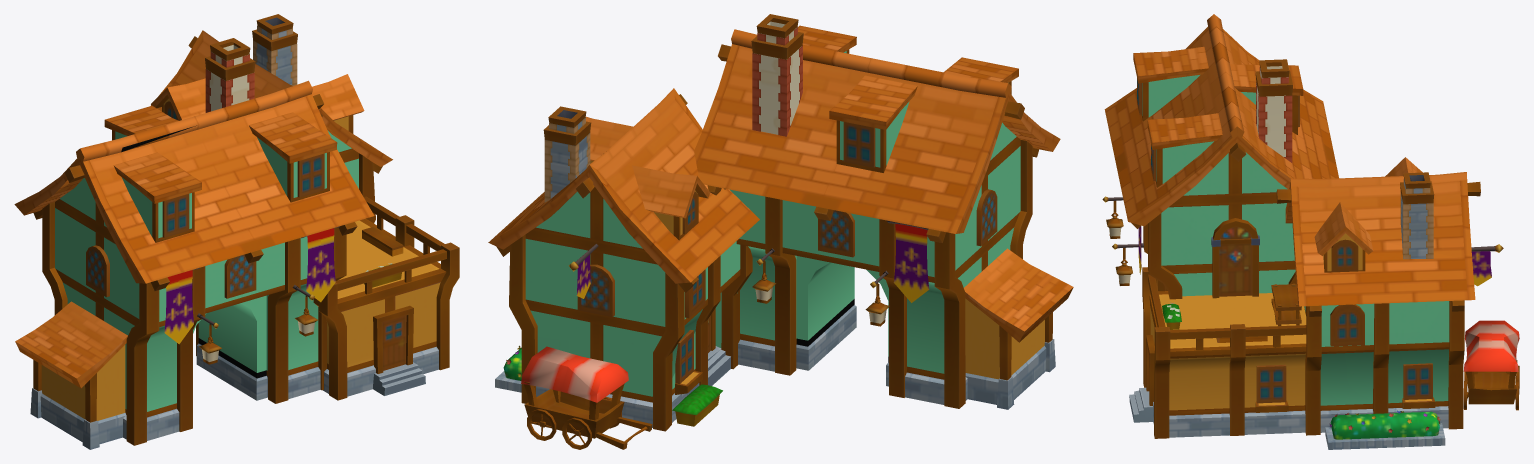
Rendered from HOS0110015.fbx.
3 renders of one model, left to right at view 1: azimuth 30°, elevation 25°; view 2: azimuth 150°, elevation 25°; view 3: azimuth 270°, elevation 25°, orthographic. The views are drawn at different scales.
Parts seen in each view (by area): view 1: smHOS0110015; view 2: smHOS0110015; view 3: smHOS0110015.
Part boxes in pixels (left/top/right/bottom): smHOS0110015: left=14, top=14, right=459, bottom=449; smHOS0110015: left=488, top=14, right=1073, bottom=449; smHOS0110015: left=1102, top=14, right=1519, bottom=449.
Size of what is drawn, in the model's own units: 1295 by 966 by 1215.
Materials: 1 (1 with a texture image).
